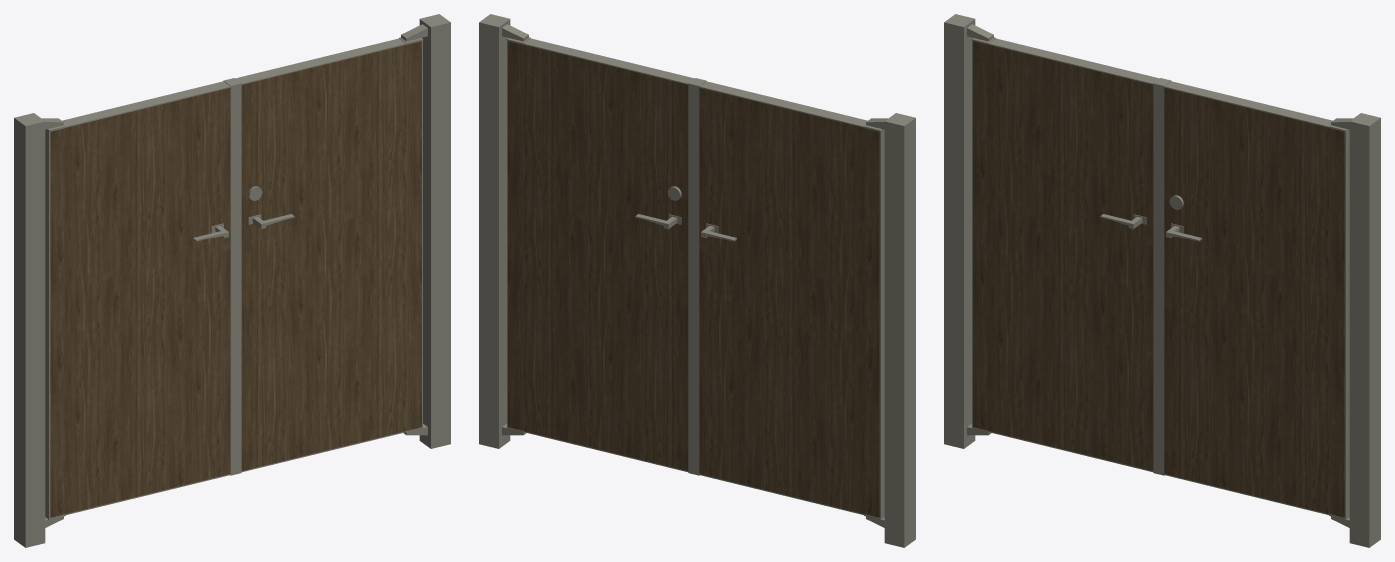
Rendered from abmonpi-flat_h1400-w700-700_brownebony.fbx.
3 renders of one model, left to right at view 1: azimuth 30°, elevation 25°; view 2: azimuth 150°, elevation 25°; view 3: azimuth 330°, elevation 25°, orthographic.
Visible parts, largest first — view 1: abmonpi-flat_h1400-w700-700_brackebony.002; view 2: abmonpi-flat_h1400-w700-700_brackebony.002; view 3: abmonpi-flat_h1400-w700-700_brackebony.002.
Boxes of the visible parts, left/top/right/bottom form: abmonpi-flat_h1400-w700-700_brackebony.002: left=14, top=14, right=450, bottom=547; abmonpi-flat_h1400-w700-700_brackebony.002: left=479, top=14, right=915, bottom=547; abmonpi-flat_h1400-w700-700_brackebony.002: left=944, top=14, right=1380, bottom=547.
Bounding box in the file's own units: 160 × 152 × 16.7.
Materials: 2 (2 with a texture image).
